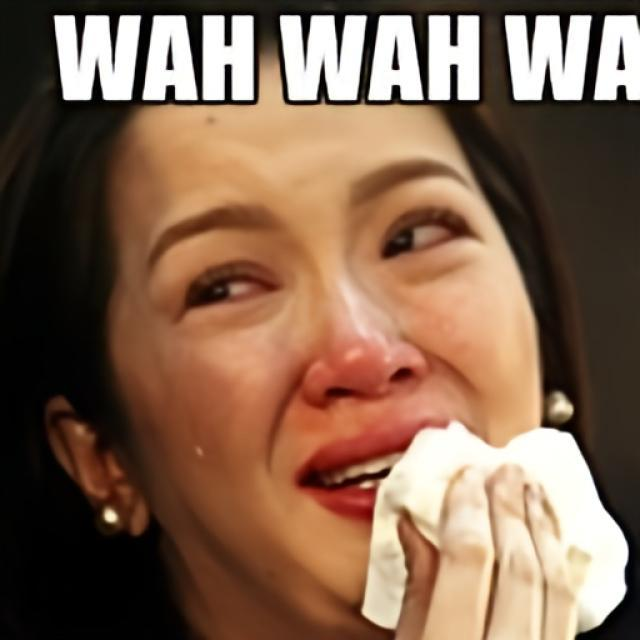sad: (107, 102, 545, 640)
